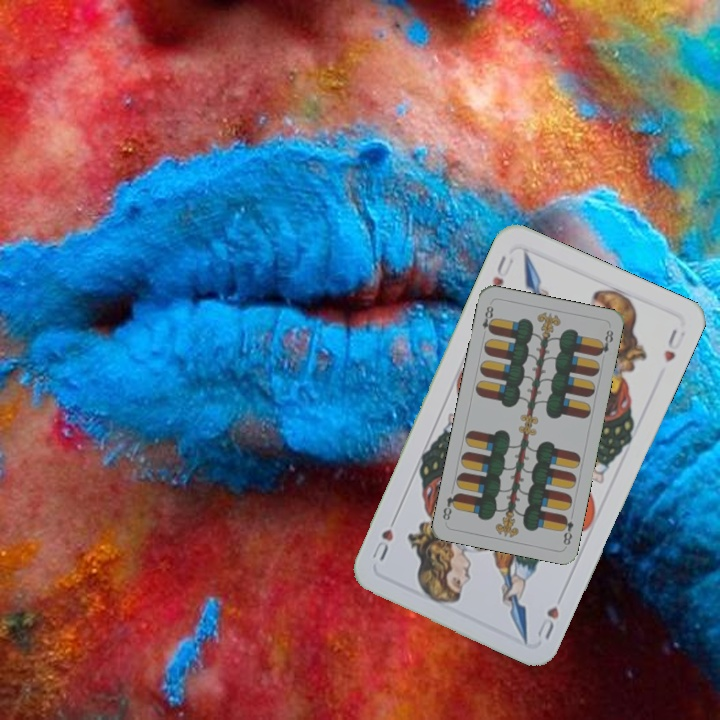E8: (557, 511, 576, 548), (478, 301, 497, 336)
HU: (533, 602, 562, 643), (488, 251, 516, 292)
